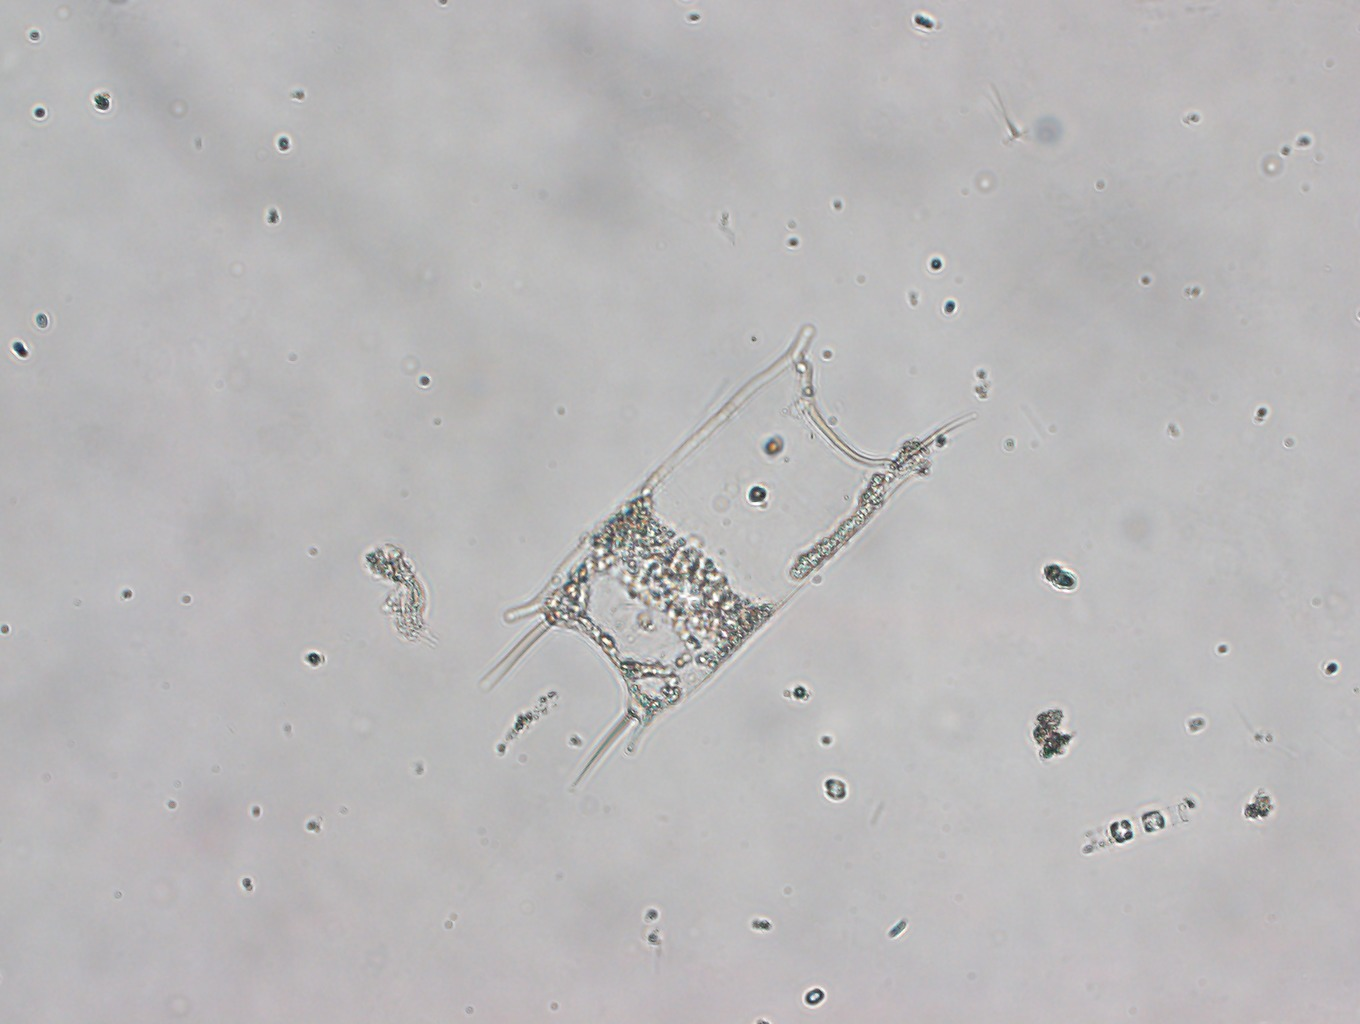biddulphia: (459, 297, 984, 785)
skeletonema: (1064, 790, 1206, 861)
